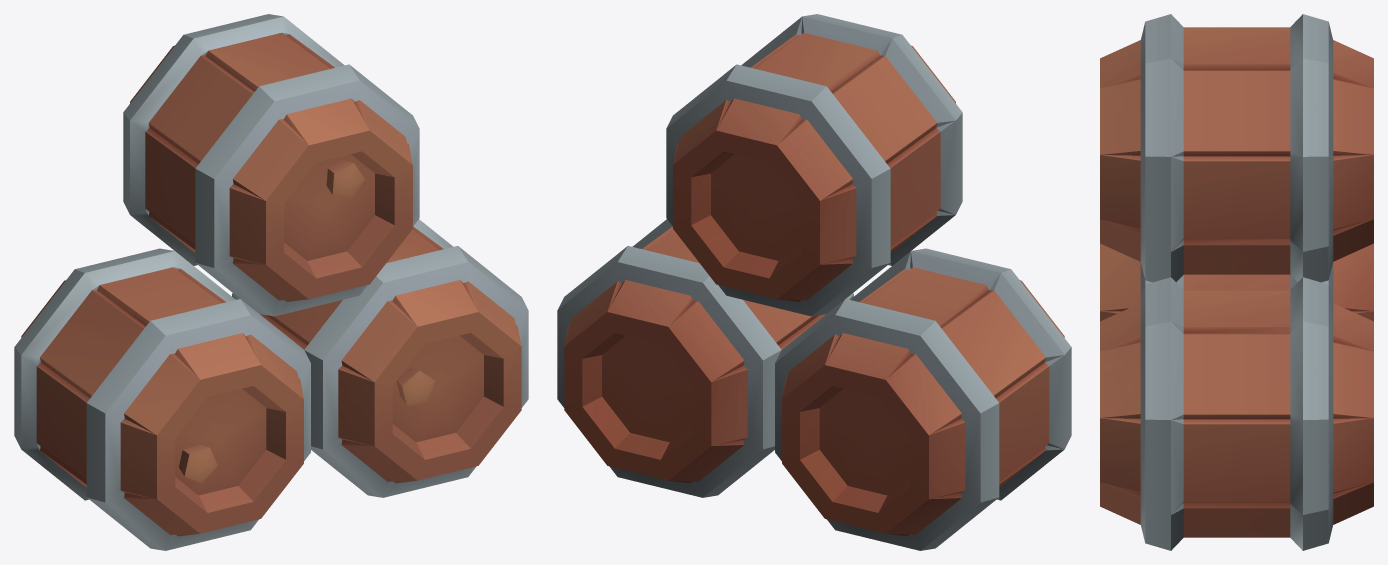
File: barrel-small-stack-gltf.glb
3 renders of one model, left to right at view 1: azimuth 30°, elevation 25°; view 2: azimuth 150°, elevation 25°; view 3: azimuth 270°, elevation 25°, orthographic.
Parts seen in each view (by area): view 1: barrel_small_stack; view 2: barrel_small_stack; view 3: barrel_small_stack.
Part boxes in pixels (x1=…): barrel_small_stack: x1=14, y1=14, x2=528, y2=550; barrel_small_stack: x1=557, y1=14, x2=1071, y2=550; barrel_small_stack: x1=1100, y1=14, x2=1373, y2=550.
Bounding box in the file's own units: 1.85 × 1.77 × 1.
1 material, 1 textured.
